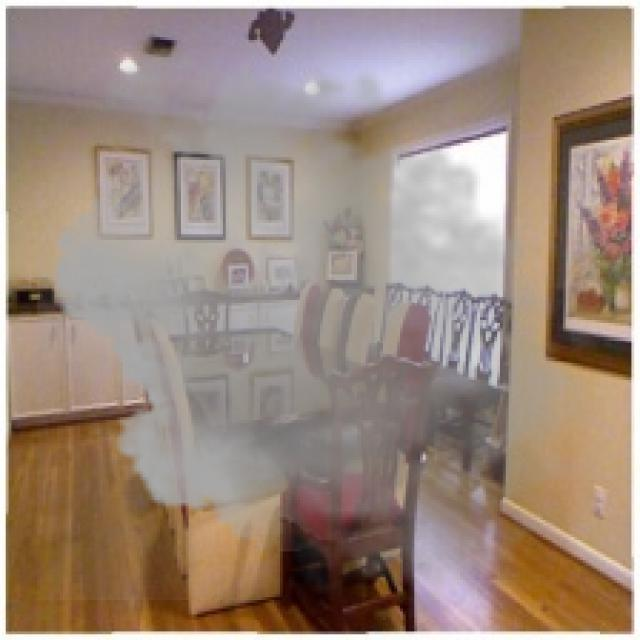Smoke: (37, 31, 606, 600)
